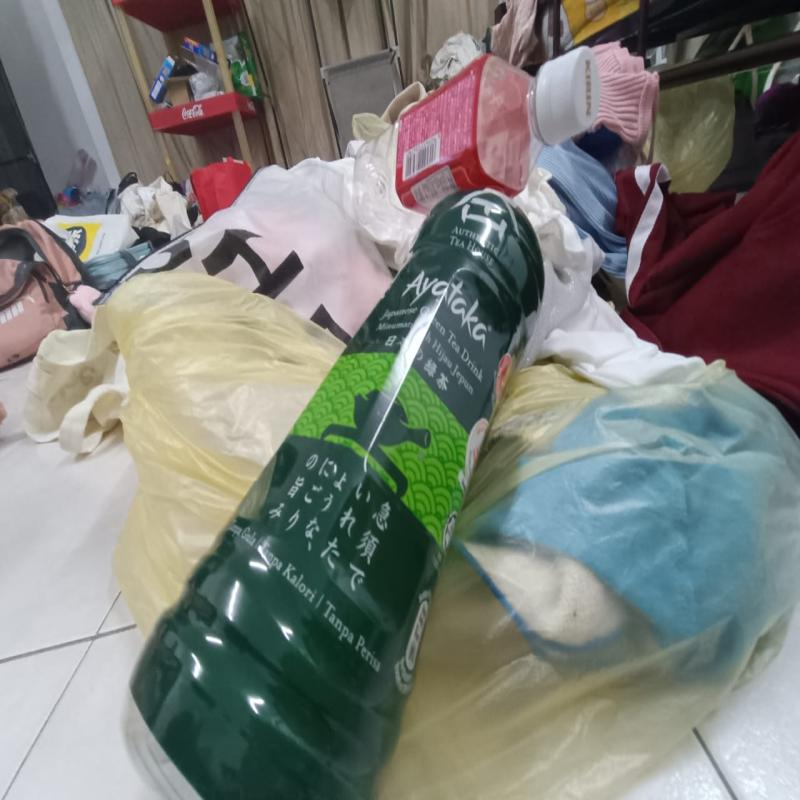botella: (122, 179, 546, 800), (351, 51, 601, 253)
